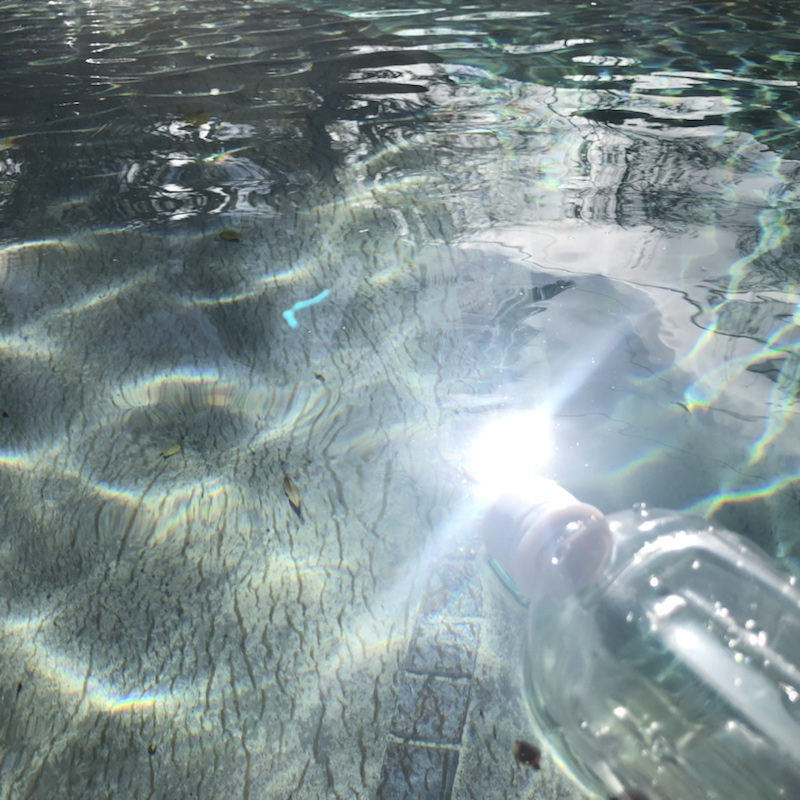Plastic Bottle: (474, 472, 800, 800)
